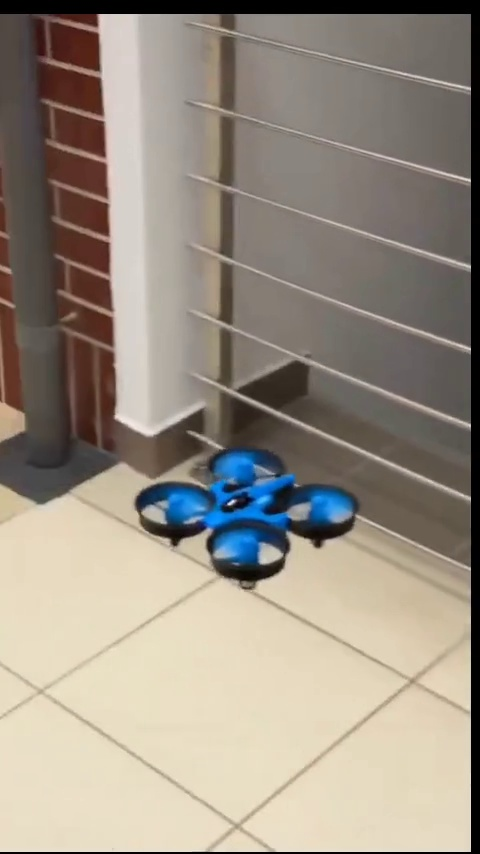drone: (129, 446, 357, 591)
